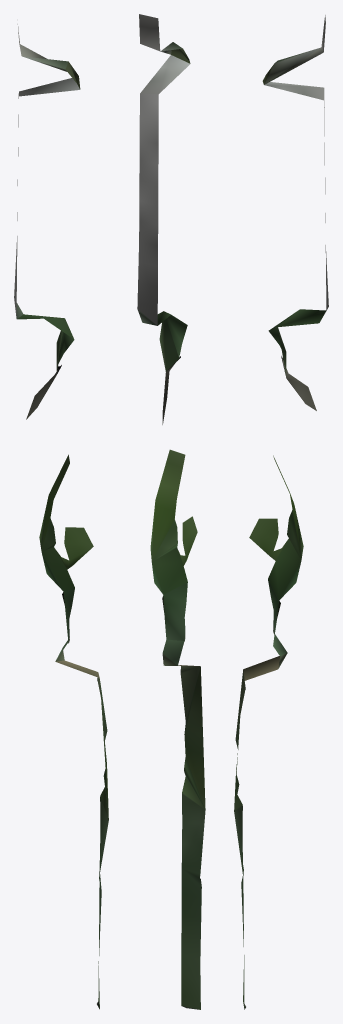
File: Tile_+032_+031.glb
3 renders of one model, left to right at view 1: azimuth 90°, elevation 25°; view 2: azimuth 150°, elevation 25°; view 3: azimuth 270°, elevation 25°, orthographic. The views are drawn at different scales.
Size of the model in its own units: 1 by 50.38 by 4.39.
Materials: 1 (1 with a texture image).
